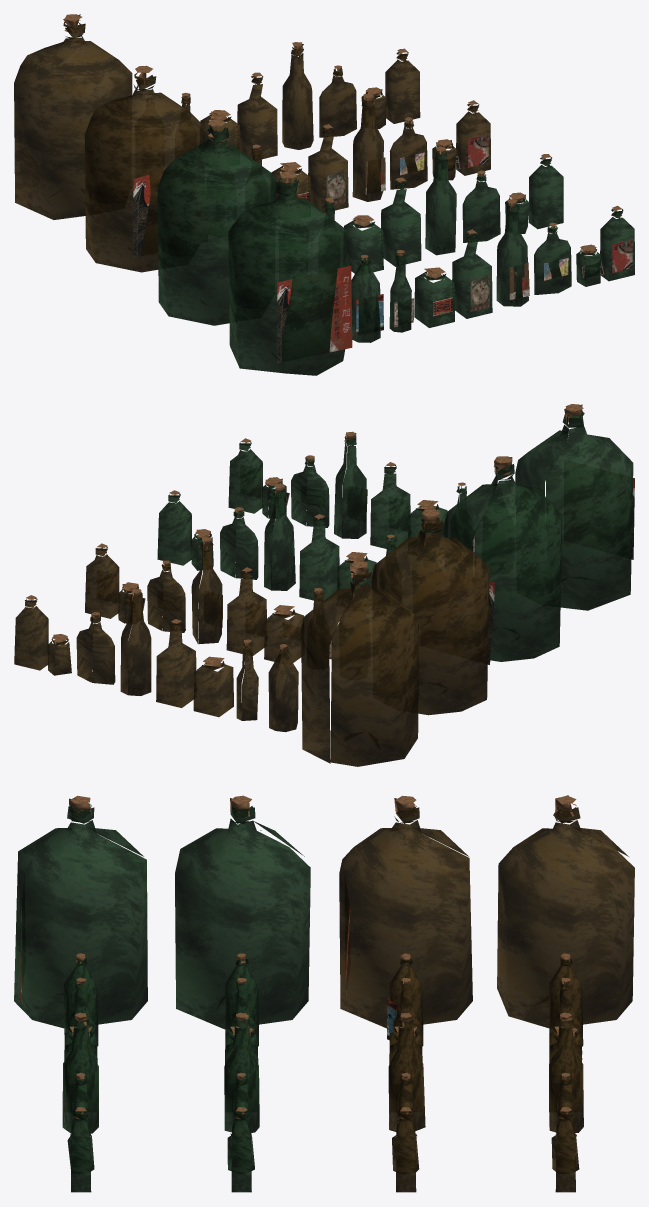
The model's file is bottles_glass.glb.
The picture shows the model from 3 angles, top to bottom: view 1: azimuth 30°, elevation 25°; view 2: azimuth 150°, elevation 25°; view 3: azimuth 270°, elevation 25°; orthographic projection. The views are drawn at different scales.
Parts seen in each view (by area): view 1: Object_86, Object_32, Object_5, Object_59, Object_20, Object_47, Object_85, Object_74, Object_44, Object_17, Object_101, Object_89 (+22 smaller); view 2: Object_5, Object_59, Object_32, Object_86, Object_101, Object_20, Object_17, Object_47, Object_74, Object_71, Object_98, Object_44 (+16 smaller); view 3: Object_5, Object_32, Object_86, Object_59, Object_101, Object_74, Object_47, Object_20, Object_56, Object_83, Object_110, Object_29 (+11 smaller).
Boxes of the visible parts, box(x1,y1,x2,y2) form: Object_86: box(228, 178, 346, 375); Object_32: box(157, 125, 275, 325); Object_5: box(14, 20, 132, 219); Object_59: box(84, 72, 202, 272); Object_20: box(282, 47, 313, 149); Object_47: box(425, 151, 456, 255); Object_85: box(277, 171, 352, 363); Object_74: box(352, 98, 383, 201); Object_44: box(381, 180, 421, 266); Object_17: box(237, 75, 277, 159); Object_101: box(496, 203, 528, 306); Object_89: box(351, 257, 380, 342); Object_5: box(301, 568, 419, 766); Object_59: box(371, 517, 489, 715); Object_32: box(444, 464, 562, 661); Object_86: box(515, 410, 633, 610); Object_101: box(334, 436, 366, 538); Object_20: box(120, 593, 151, 695); Object_17: box(156, 621, 196, 707); Object_47: box(264, 489, 295, 590); Object_74: box(191, 542, 222, 644); Object_71: box(226, 570, 266, 655); Object_98: box(370, 465, 410, 548); Object_44: box(299, 517, 339, 600); Object_5: box(497, 803, 634, 1028); Object_32: box(175, 806, 310, 1029); Object_86: box(14, 804, 147, 1028); Object_59: box(339, 804, 472, 1028); Object_101: box(62, 1018, 98, 1133); Object_74: box(388, 1017, 425, 1131); Object_47: box(224, 1018, 259, 1132); Object_20: box(549, 1018, 583, 1132); Object_56: box(231, 1110, 251, 1192); Object_83: box(396, 1110, 416, 1192); Object_110: box(71, 1110, 91, 1192); Object_29: box(555, 1110, 575, 1192).
Size of the model in its own units: 27.62 by 12.1 by 33.26.
3 materials, 3 textured.
